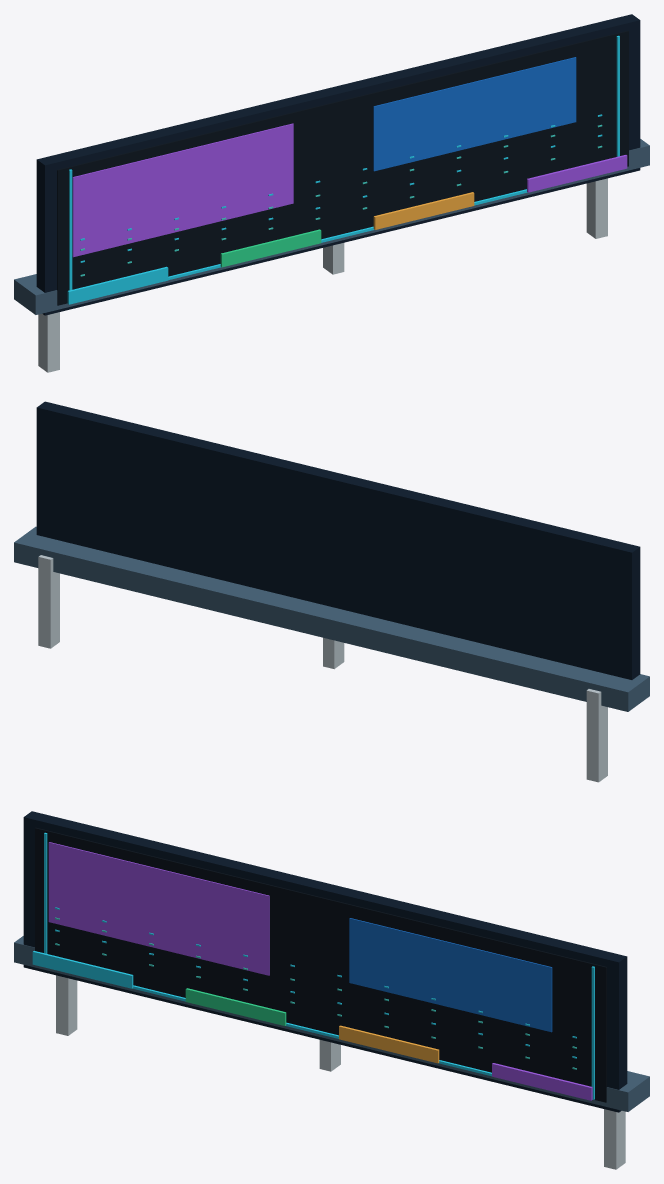
The model's file is 61_L80_HolographicOpticalDataSCADA.fbx.
3 views of the same model, one above another, from view 1: azimuth 30°, elevation 25°; view 2: azimuth 150°, elevation 25°; view 3: azimuth 330°, elevation 25° (orthographic).
Visible parts, largest first — view 1: HolographicOpticalDataSCADA_Part_0004, HolographicOpticalDataSCADA_Part_0005, HolographicOpticalDataSCADA_Part_0003, HolographicOpticalDataSCADA_Part_0006, HolographicOpticalDataSCADA, HolographicOpticalDataSCADA_Part_0059, HolographicOpticalDataSCADA_Part_0060, HolographicOpticalDataSCADA_Part_0061, HolographicOpticalDataSCADA_Part_0062, HolographicOpticalDataSCADA_Part_0057, HolographicOpticalDataSCADA_Part_0058; view 2: HolographicOpticalDataSCADA_Part_0003, HolographicOpticalDataSCADA, HolographicOpticalDataSCADA_Part_0058; view 3: HolographicOpticalDataSCADA_Part_0004, HolographicOpticalDataSCADA_Part_0005, HolographicOpticalDataSCADA_Part_0003, HolographicOpticalDataSCADA_Part_0006, HolographicOpticalDataSCADA, HolographicOpticalDataSCADA_Part_0059, HolographicOpticalDataSCADA_Part_0060, HolographicOpticalDataSCADA_Part_0061, HolographicOpticalDataSCADA_Part_0062, HolographicOpticalDataSCADA_Part_0057, HolographicOpticalDataSCADA_Part_0058, HolographicOpticalDataSCADA_Part_0056.
Part boxes in pixels (bbox=[...]): HolographicOpticalDataSCADA_Part_0004: bbox=[57, 30, 628, 305]; HolographicOpticalDataSCADA_Part_0005: bbox=[72, 123, 293, 257]; HolographicOpticalDataSCADA_Part_0003: bbox=[36, 14, 640, 315]; HolographicOpticalDataSCADA_Part_0006: bbox=[373, 57, 576, 171]; HolographicOpticalDataSCADA: bbox=[14, 139, 649, 372]; HolographicOpticalDataSCADA_Part_0059: bbox=[67, 266, 168, 304]; HolographicOpticalDataSCADA_Part_0060: bbox=[220, 229, 321, 267]; HolographicOpticalDataSCADA_Part_0061: bbox=[373, 192, 474, 229]; HolographicOpticalDataSCADA_Part_0062: bbox=[527, 155, 627, 192]; HolographicOpticalDataSCADA_Part_0057: bbox=[168, 189, 527, 279]; HolographicOpticalDataSCADA_Part_0058: bbox=[323, 243, 344, 274]; HolographicOpticalDataSCADA_Part_0003: bbox=[36, 401, 640, 679]; HolographicOpticalDataSCADA: bbox=[14, 526, 649, 782]; HolographicOpticalDataSCADA_Part_0058: bbox=[323, 637, 344, 669]; HolographicOpticalDataSCADA_Part_0004: bbox=[35, 827, 606, 1102]; HolographicOpticalDataSCADA_Part_0005: bbox=[48, 842, 269, 975]; HolographicOpticalDataSCADA_Part_0003: bbox=[23, 811, 627, 1112]; HolographicOpticalDataSCADA_Part_0006: bbox=[349, 918, 552, 1032]; HolographicOpticalDataSCADA: bbox=[14, 936, 649, 1169]; HolographicOpticalDataSCADA_Part_0059: bbox=[32, 951, 133, 988]; HolographicOpticalDataSCADA_Part_0060: bbox=[185, 988, 286, 1025]; HolographicOpticalDataSCADA_Part_0061: bbox=[339, 1025, 439, 1063]; HolographicOpticalDataSCADA_Part_0062: bbox=[492, 1063, 592, 1100]; HolographicOpticalDataSCADA_Part_0057: bbox=[132, 985, 491, 1076]; HolographicOpticalDataSCADA_Part_0058: bbox=[319, 1040, 340, 1071]; HolographicOpticalDataSCADA_Part_0056: bbox=[591, 966, 594, 1099].
Bounding box in the file's own units: 650 × 225 × 57.75.
